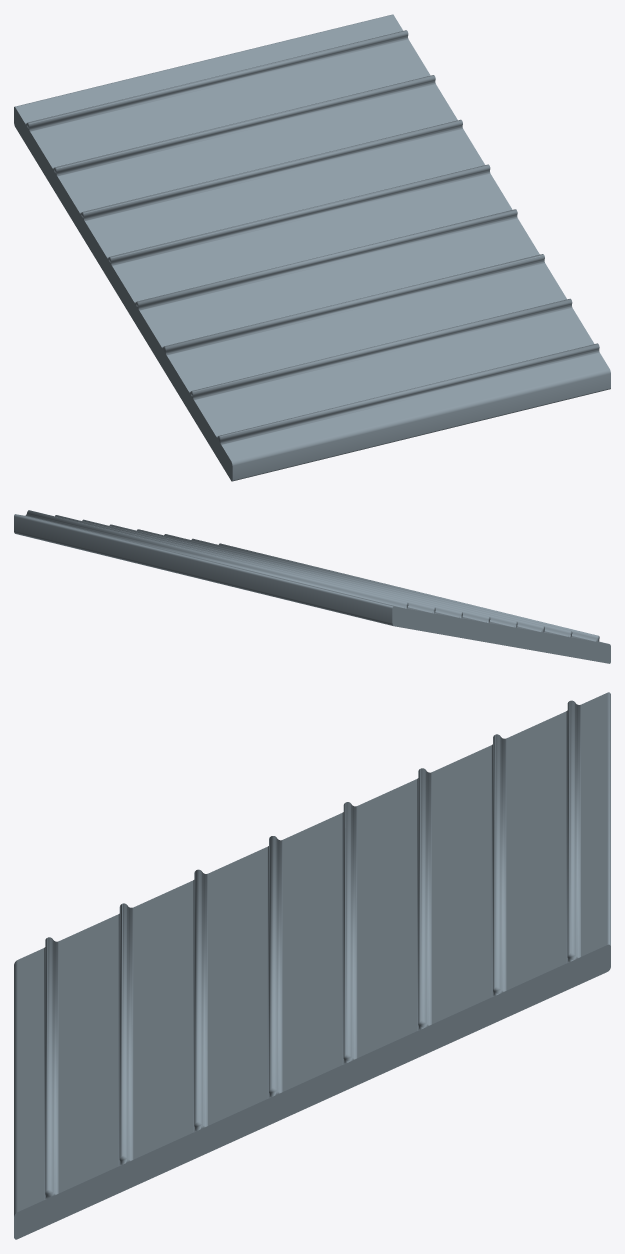
Rendered from RoofSlope.glb.
3 views of the same model, one above another, from view 1: azimuth 30°, elevation 25°; view 2: azimuth 150°, elevation 25°; view 3: azimuth 270°, elevation 25° (orthographic). The views are drawn at different scales.
Visible parts, largest first — view 1: PBK_slope.003; view 2: PBK_slope.003; view 3: PBK_slope.003.
Part boxes in pixels (x1,y1,x2,y2): PBK_slope.003: (14, 14, 610, 481); PBK_slope.003: (14, 510, 610, 663); PBK_slope.003: (14, 692, 610, 1239).
Size of the model in its own units: 2 by 1.09 by 2.
